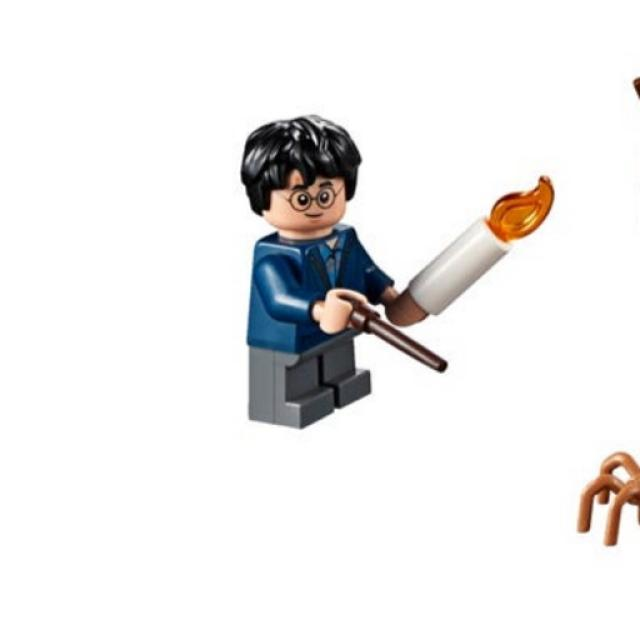Lego-Minifigures: (200, 98, 572, 472)
